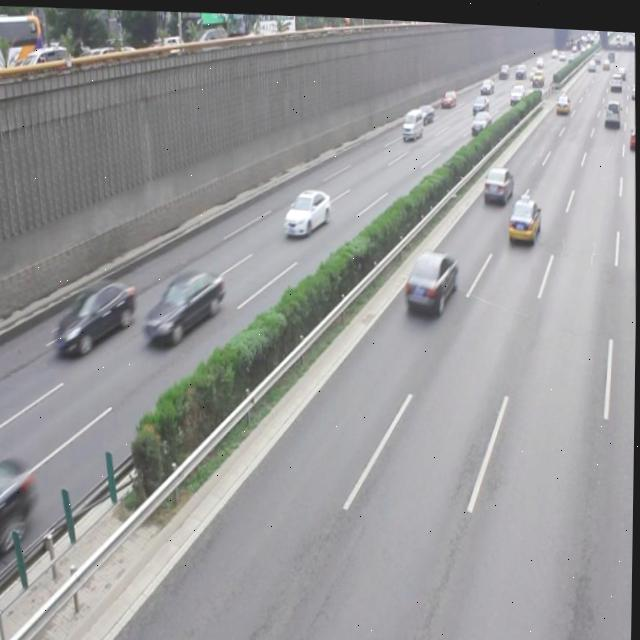car: (53, 275, 135, 360), (141, 265, 225, 347), (403, 245, 458, 313), (0, 454, 33, 560), (281, 184, 331, 238), (505, 194, 540, 243), (481, 162, 512, 201)
